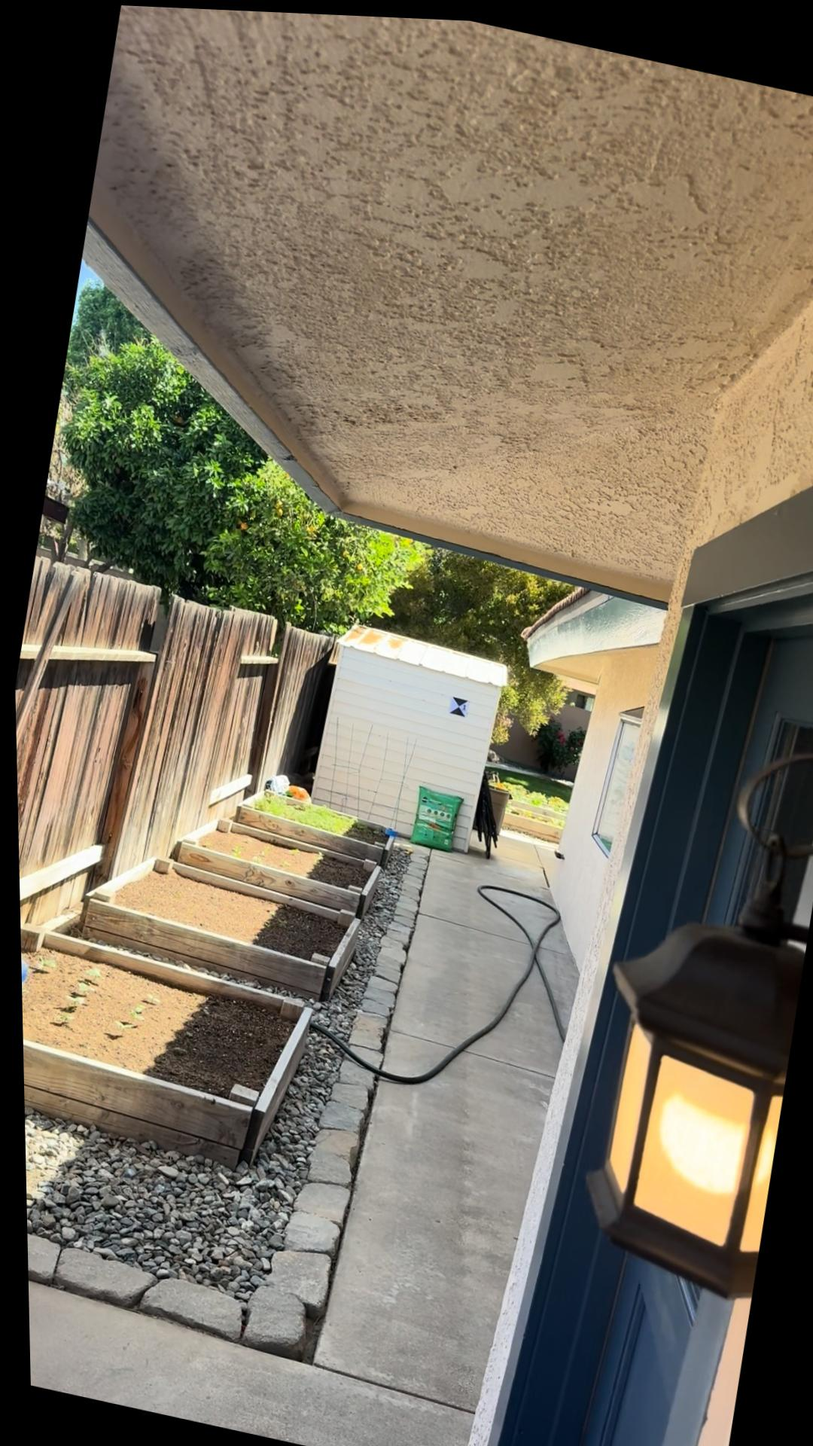target1: (445, 693, 473, 721)
